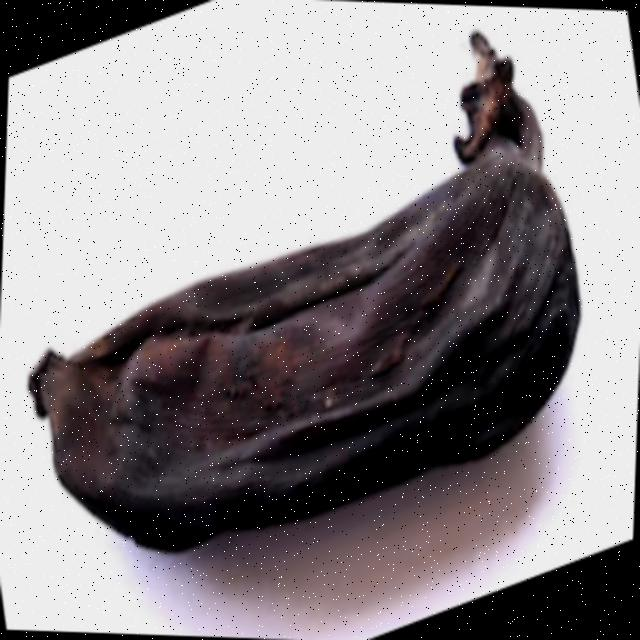Rotten: (7, 0, 606, 577)
